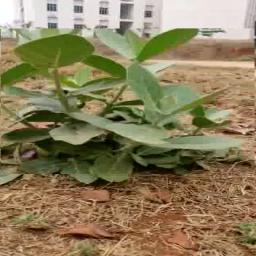CALOTROPIS: (1, 28, 255, 174)
